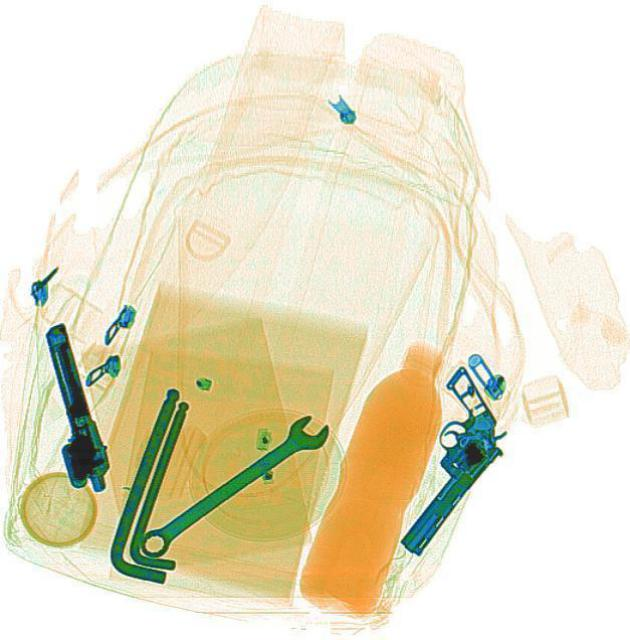Gun: (344, 365, 531, 557), (24, 320, 116, 498)
Wrench: (130, 408, 334, 566)
